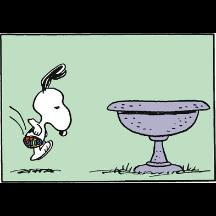snoopy: (22, 63, 72, 160)
